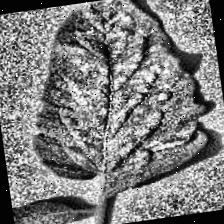spider mites: (15, 0, 213, 199)
